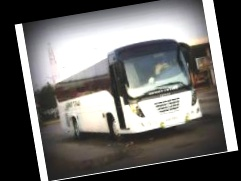bus: (47, 34, 208, 148)
